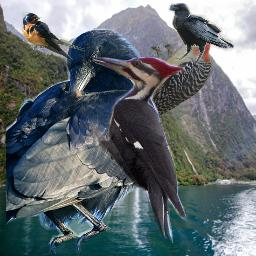Crow: (6, 29, 160, 254), (168, 3, 234, 63)
Swallow: (22, 12, 85, 60)
Woodpecker: (90, 57, 187, 243), (122, 11, 216, 124)
